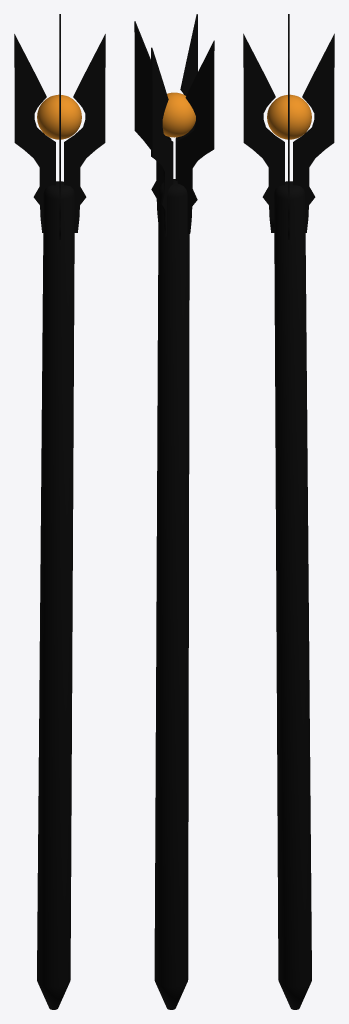
The model's file is staff.fbx.
3 views of the same model, side by side, from view 1: azimuth 90°, elevation 25°; view 2: azimuth 150°, elevation 25°; view 3: azimuth 270°, elevation 25° (orthographic).
Parts seen in each view (by area): view 1: Asa; view 2: Asa; view 3: Asa.
Boxes of the visible parts, box(x1,y1,x2,y2) form: Asa: box(14, 14, 105, 1009); Asa: box(134, 14, 214, 1009); Asa: box(243, 14, 334, 1009).
Size of the model in its own units: 38.47 by 452 by 38.47.
